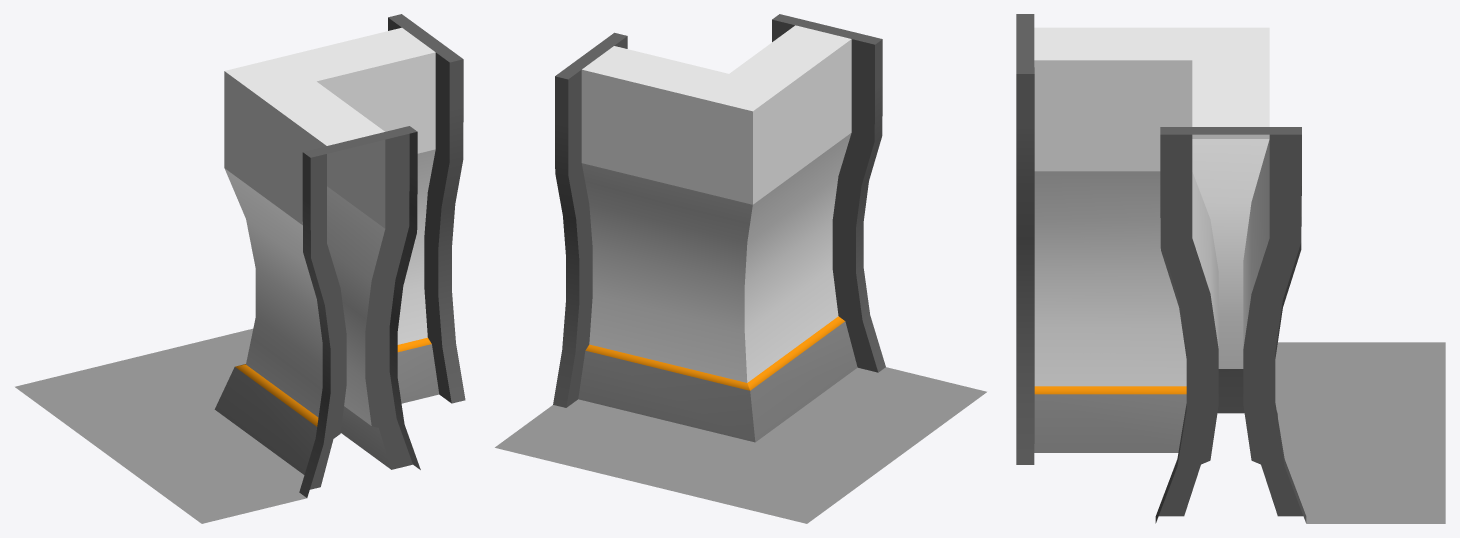
File: SM_InteriorCornerWall_02.fbx
The picture shows the model from 3 angles, left to right: view 1: azimuth 30°, elevation 25°; view 2: azimuth 150°, elevation 25°; view 3: azimuth 270°, elevation 25°; orthographic projection. The views are drawn at different scales.
Visible parts, largest first — view 1: SM_InteriorCornerWall_02; view 2: SM_InteriorCornerWall_02; view 3: SM_InteriorCornerWall_02.
Boxes of the visible parts, <box> form: SM_InteriorCornerWall_02: <box>15,14,465,523</box>; SM_InteriorCornerWall_02: <box>495,14,986,523</box>; SM_InteriorCornerWall_02: <box>1016,14,1445,523</box>.
Size of the model in its own units: 200 by 200 by 200.
1 material, 1 textured.
